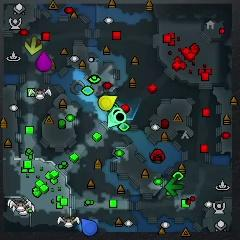p1: (81, 217, 97, 236)
p2: (107, 112, 119, 127)
p2Clone: (115, 111, 126, 122), (112, 107, 123, 115)
p3: (36, 52, 51, 71)
p4: (99, 95, 117, 110)
x2: (25, 36, 41, 55)
x4: (165, 178, 183, 195)
